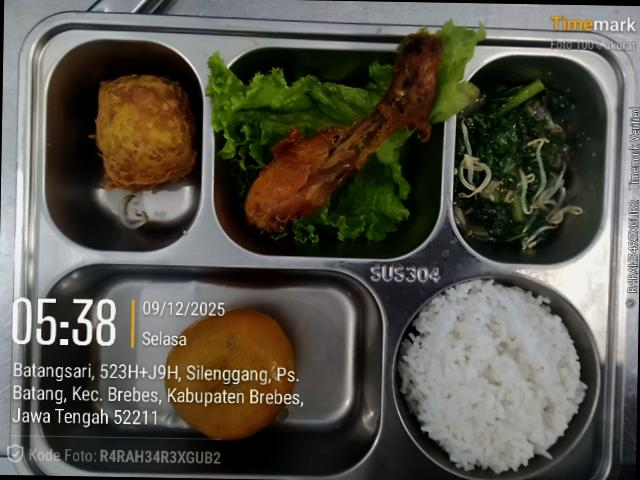ayam: (244, 34, 442, 234), (207, 53, 392, 202)
buah: (165, 309, 298, 440)
sayur: (454, 80, 582, 249)
tahu: (90, 75, 197, 191)
